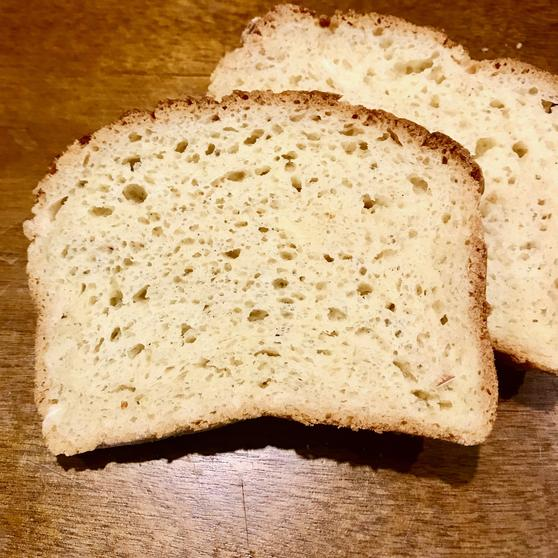white_bread: (23, 93, 520, 477)
